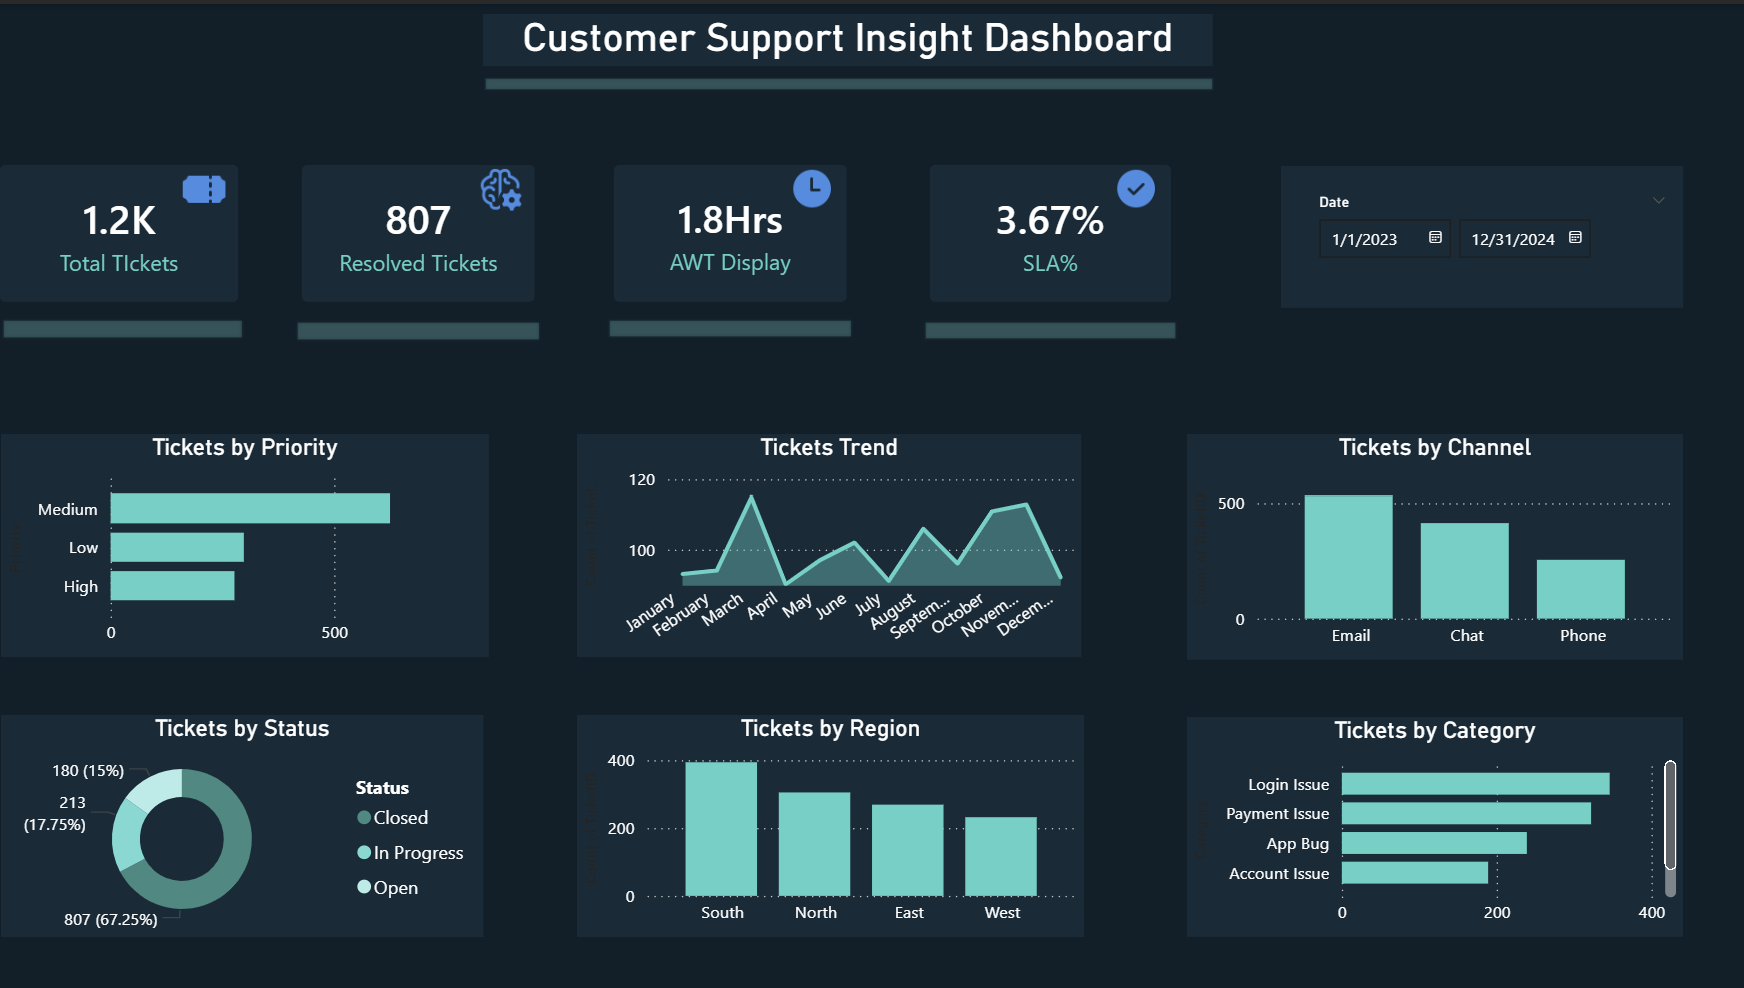

The page's visual inventory and layout, read from the dashboard file:
{"tool":"powerbi","page":{"name":"Page 1","canvas":[1280,720],"ordinal":0},"visuals":[{"type":"cardVisual","fields":{"Data":["Count(Tickets.TicketID)"]},"box":[0,112,184,110],"z":0},{"type":"cardVisual","fields":{"Data":["Tickets.Resolved Tickets"]},"box":[220.8,112.3,180,110],"z":1000},{"type":"cardVisual","fields":{"Data":["Tickets.AWT Display"]},"box":[448.5,112.3,180,110],"z":2000},{"type":"cardVisual","fields":{"Data":["Tickets.SLA%"]},"box":[678.5,112.3,186.2,110],"z":3000},{"type":"image","box":[804.6,118.5,60,33.1],"z":4000},{"type":"image","box":[340.8,117.7,60,33.8],"z":5000},{"type":"image","box":[568.5,118.5,60,33.1],"z":6000},{"type":"image","box":[123.8,117.7,60,33.8],"z":7000},{"type":"shape","box":[6.2,229.2,177.7,16.2],"z":8000},{"type":"shape","box":[220.8,230,180,16.2],"z":9000},{"type":"shape","box":[448.5,229.2,180,15.4],"z":10000},{"type":"shape","box":[678.5,230,186.2,15.4],"z":11000},{"type":"clusteredBarChart","title":"Tickets by Priority","fields":{"Category":["Tickets.Priority"],"Y":["CountNonNull(Tickets.TicketID)"]},"box":[6,314,356,162],"z":12000},{"type":"areaChart","title":"Tickets Trend","fields":{"Y":["CountNonNull(Tickets.TicketID)"],"Category":["Tickets.CreatedDate.Variation.Date Hierarchy.Month"]},"box":[426,314,368,162],"z":13000},{"type":"columnChart","title":"Tickets by Channel","fields":{"Category":["Tickets.Channel"],"Y":["CountNonNull(Tickets.TicketID)"]},"box":[872,314,362,164],"z":14000},{"type":"clusteredColumnChart","title":"Tickets by Region","fields":{"Category":["Tickets.Region"],"Y":["CountNonNull(Tickets.TicketID)"]},"box":[426,518,370,162],"z":15000},{"type":"clusteredBarChart","title":"Tickets by Category","fields":{"Category":["Tickets.Category"],"Y":["CountNonNull(Tickets.TicketID)"]},"box":[871.3,519.6,362,160.5],"z":16000},{"type":"donutChart","title":"Tickets by Status","fields":{"Category":["Tickets.Status"],"Y":["CountNonNull(Tickets.TicketID)"]},"box":[6,518,352,162],"z":17000},{"type":"slicer","fields":{"Values":["Tickets.CreatedDate"]},"box":[940,118.3,293.3,103.3],"z":18000},{"type":"textbox","title":"Customer Support Insight Dashboard","box":[357.6,7.3,532.7,37.9],"z":19000},{"type":"shape","box":[357.6,52.5,534.2,11.7],"z":20000}]}

Visuals, with their boxes in screenshot pixels (x1, y1, x2, y2), scaled from the page's 1280x720 canvas onto the 1744x988 screenshot:
cardVisual - Count(Tickets.TicketID): Rect(0, 154, 251, 305)
cardVisual - Tickets.Resolved Tickets: Rect(301, 154, 546, 305)
cardVisual - Tickets.AWT Display: Rect(611, 154, 856, 305)
cardVisual - Tickets.SLA%: Rect(924, 154, 1178, 305)
image: Rect(1096, 163, 1178, 208)
image: Rect(464, 162, 546, 208)
image: Rect(775, 163, 856, 208)
image: Rect(169, 162, 250, 208)
shape: Rect(8, 315, 251, 337)
shape: Rect(301, 316, 546, 338)
shape: Rect(611, 315, 856, 336)
shape: Rect(924, 316, 1178, 337)
"Tickets by Priority" clusteredBarChart: Rect(8, 431, 493, 653)
"Tickets Trend" areaChart: Rect(580, 431, 1082, 653)
"Tickets by Channel" columnChart: Rect(1188, 431, 1681, 656)
"Tickets by Region" clusteredColumnChart: Rect(580, 711, 1085, 933)
"Tickets by Category" clusteredBarChart: Rect(1187, 713, 1680, 933)
"Tickets by Status" donutChart: Rect(8, 711, 488, 933)
slicer - Tickets.CreatedDate: Rect(1281, 162, 1680, 304)
"Customer Support Insight Dashboard" textbox: Rect(487, 10, 1213, 62)
shape: Rect(487, 72, 1215, 88)
